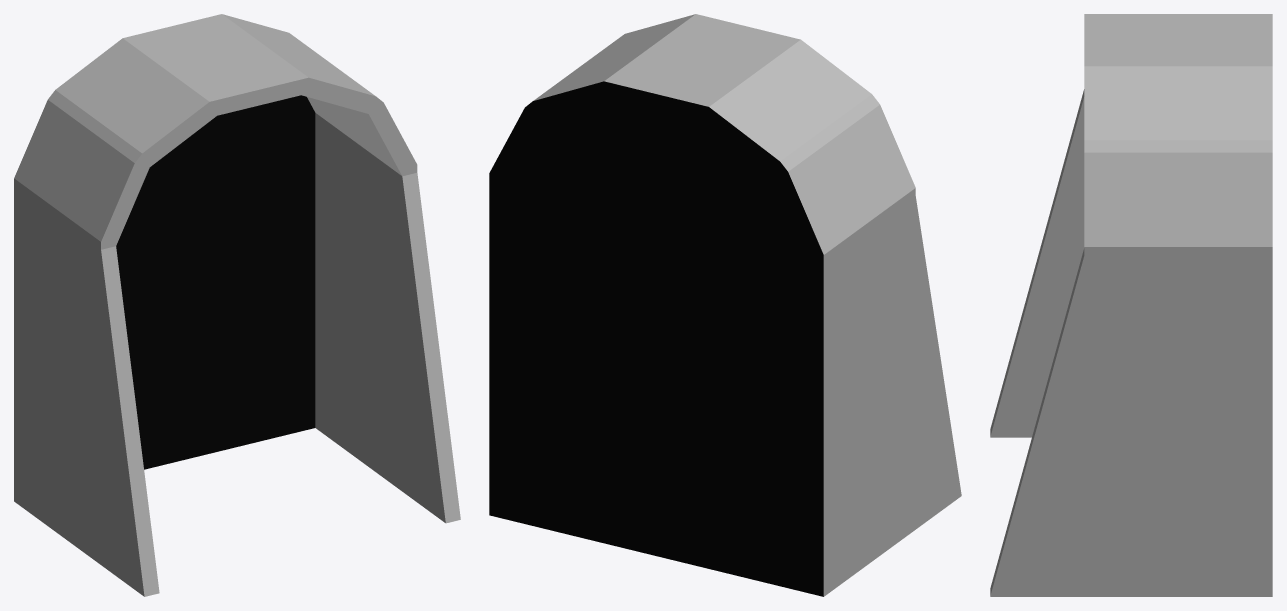
The model's file is tunnel.obj.
3 views of the same model, side by side, from view 1: azimuth 30°, elevation 25°; view 2: azimuth 150°, elevation 25°; view 3: azimuth 270°, elevation 25° (orthographic). The views are drawn at different scales.
Visible parts, largest first — view 1: Cube_Cube.001; view 2: Cube_Cube.001; view 3: Cube_Cube.001.
Boxes of the visible parts, x1=… form: Cube_Cube.001: x1=14, y1=14, x2=460, y2=596; Cube_Cube.001: x1=489, y1=14, x2=961, y2=596; Cube_Cube.001: x1=990, y1=14, x2=1272, y2=596.
Size of the model in its own units: 4.2 by 5.54 by 3.
